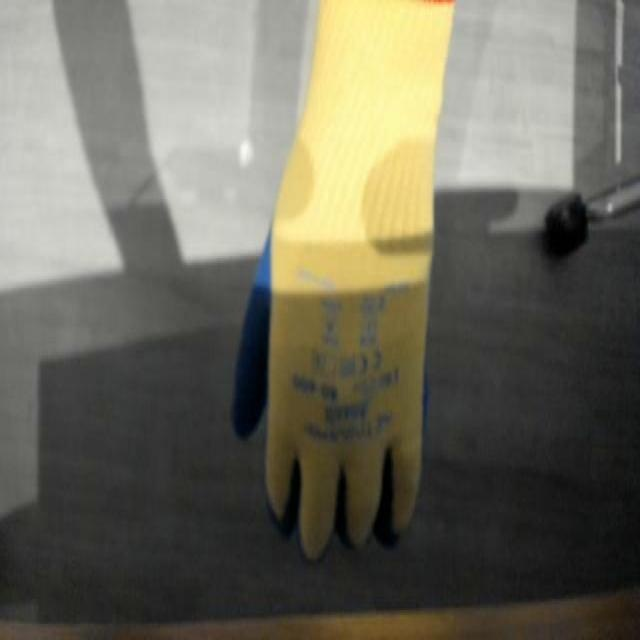Guantes: (229, 0, 459, 561)
